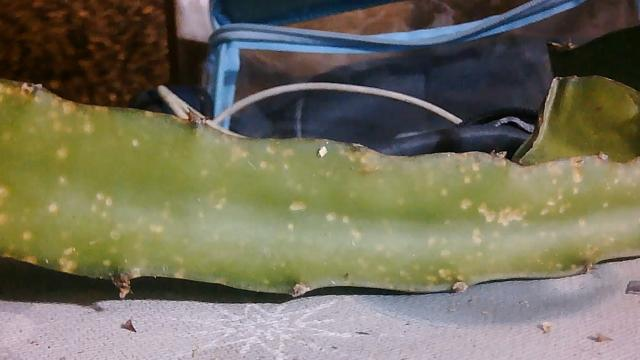stemcanker: (4, 74, 640, 294)
